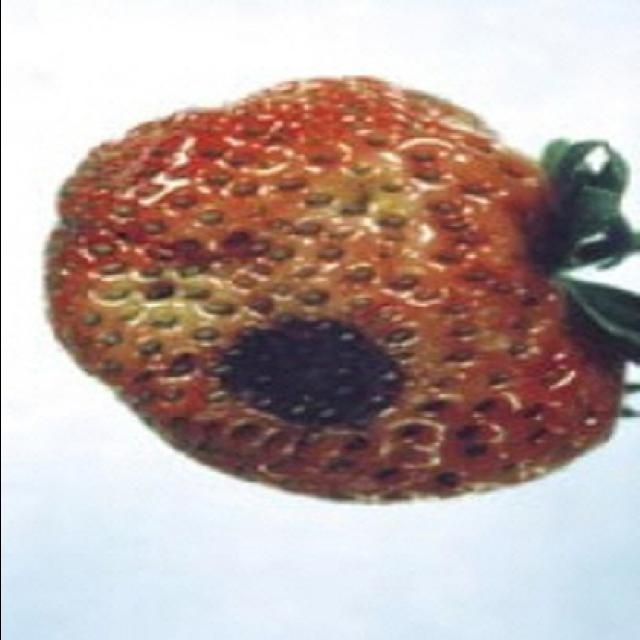Anthracnose Fruit Rot: (199, 291, 401, 449)
